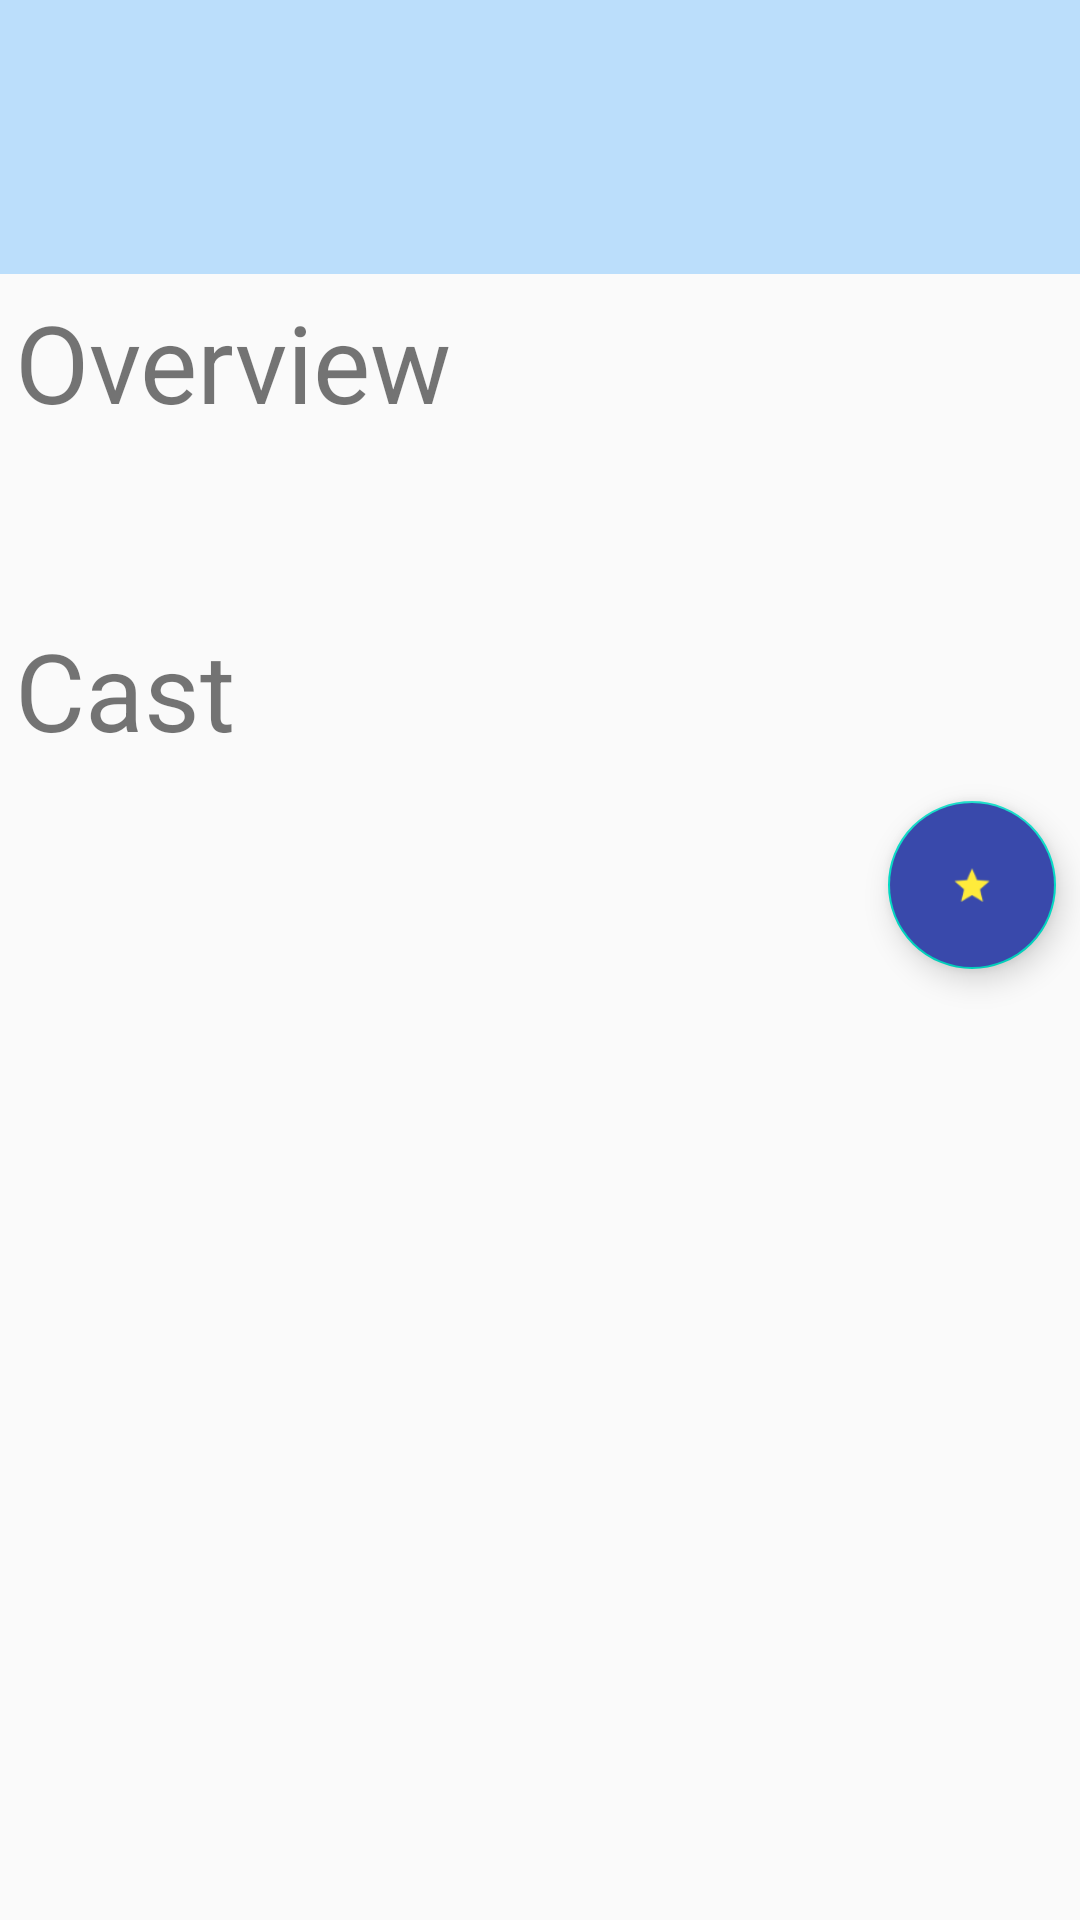

Screen size 1080*1920. Icon name, then its box in pixels as (x1, y1, x2, y2):
star: (888, 801, 1056, 969)
